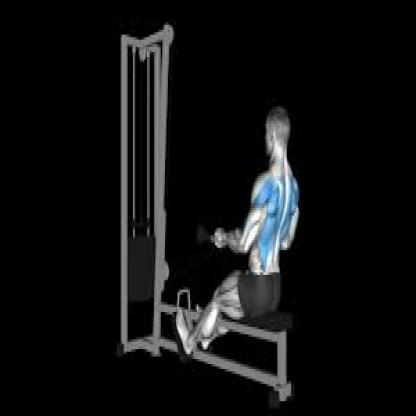Seated Cable Rows: (112, 16, 302, 416)
